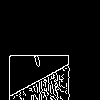J: (25, 25, 54, 78)
